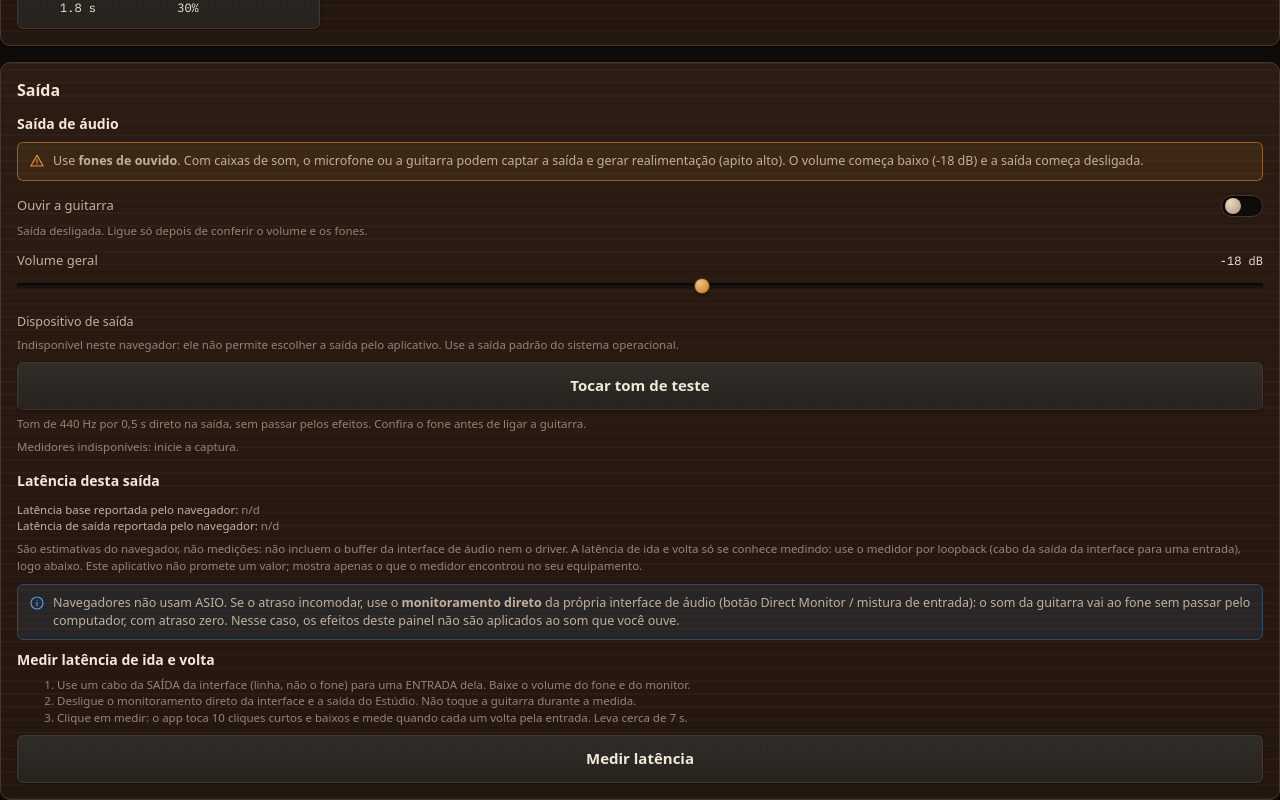
Test: Medidor de latência por loopback (interface) › falha output-on: mensagem clara, nenhum número inventado
(page scrolled)
Click the button with test id "loopback-btn" at (640, 759), box [17, 735, 1263, 783]
(page scrolled)
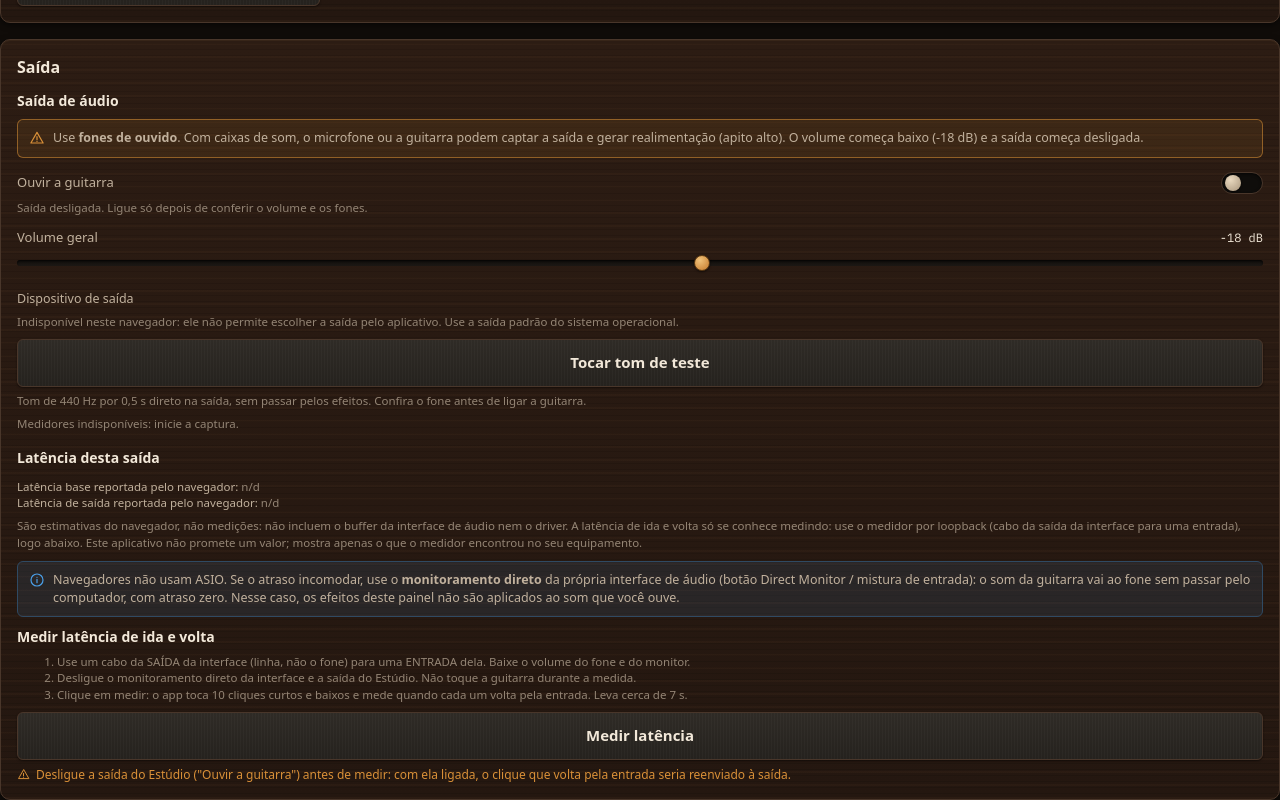
Check: the message with test id "loopback-error" is shown, box [17, 766, 791, 782]
Check: the message with test id "loopback-error" shows "Desligue a saída do Estúdio", box [36, 766, 791, 782]
